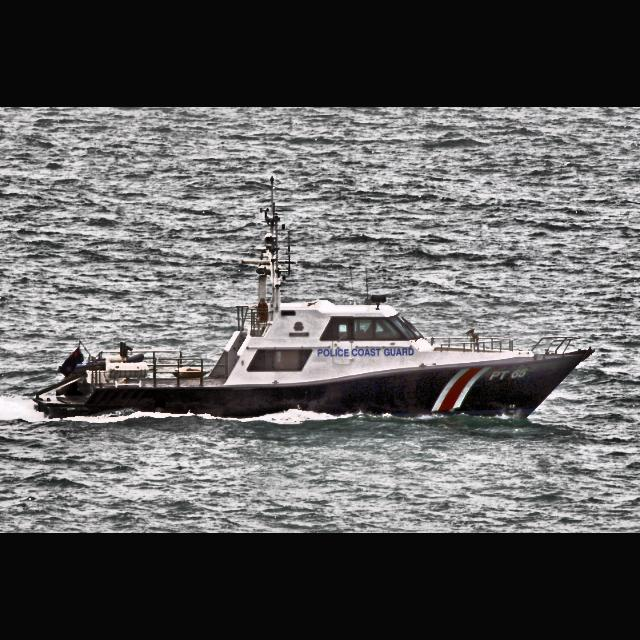patrol_vessel: (34, 276, 596, 432)
